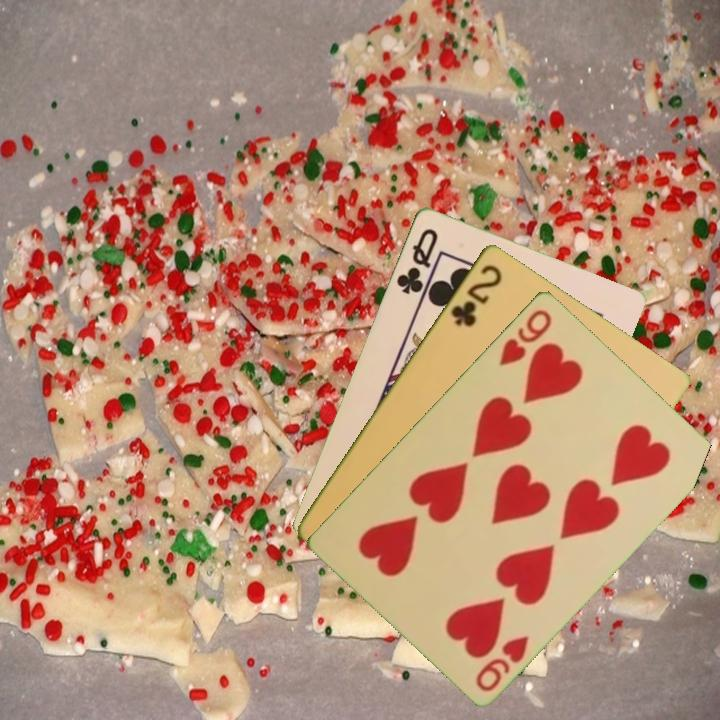2c: (447, 260, 505, 330)
9h: (495, 305, 555, 369), (472, 631, 532, 694)
Qc: (392, 224, 441, 297)
